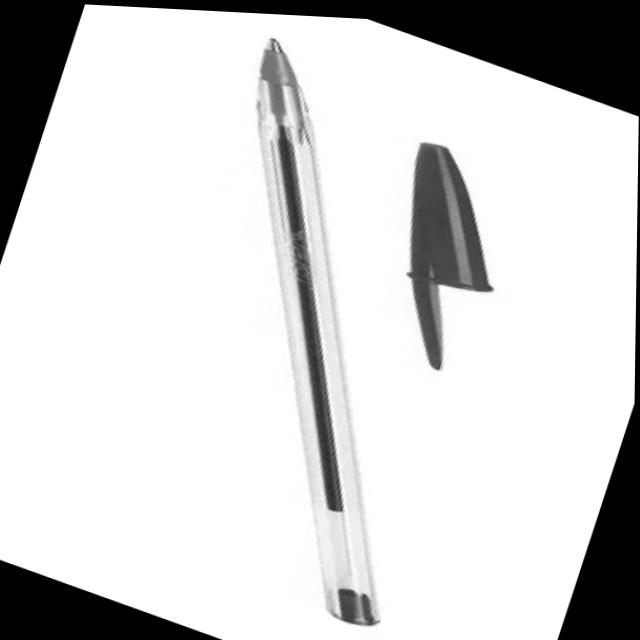pen: (103, 27, 545, 640)
